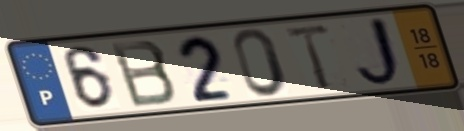0: (231, 27, 290, 100)
2: (171, 30, 241, 108)
6: (62, 45, 117, 113)
B: (106, 37, 181, 110)
J: (353, 14, 410, 90)
T: (283, 22, 336, 93)
